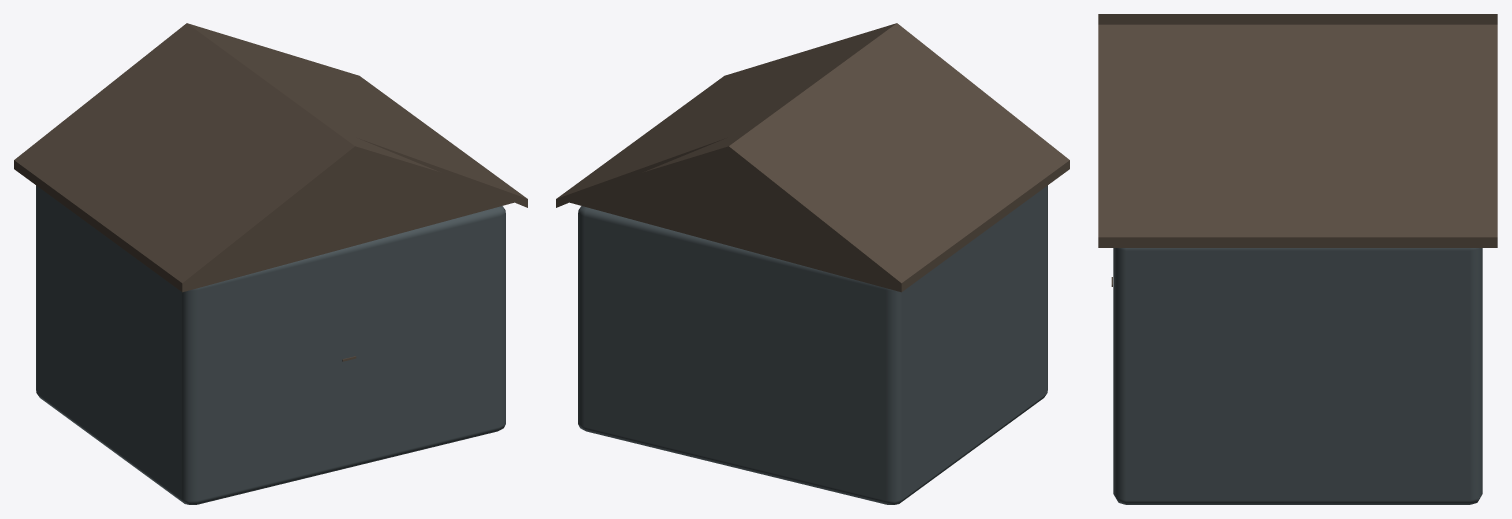
The model's file is pump-house-2.glb.
The picture shows the model from 3 angles, left to right: view 1: azimuth 30°, elevation 25°; view 2: azimuth 150°, elevation 25°; view 3: azimuth 270°, elevation 25°; orthographic projection. The views are drawn at different scales.
Visible parts, largest first — view 1: pump-house/1/KR-230-2; view 2: pump-house/1/KR-230-2; view 3: pump-house/1/KR-230-2.
Part boxes in pixels (left/top/right/bottom): pump-house/1/KR-230-2: left=14, top=23, right=527, bottom=504; pump-house/1/KR-230-2: left=556, top=23, right=1069, bottom=504; pump-house/1/KR-230-2: left=1098, top=14, right=1497, bottom=504.
Size of the model in its own units: 6.4 by 6 by 5.4.
